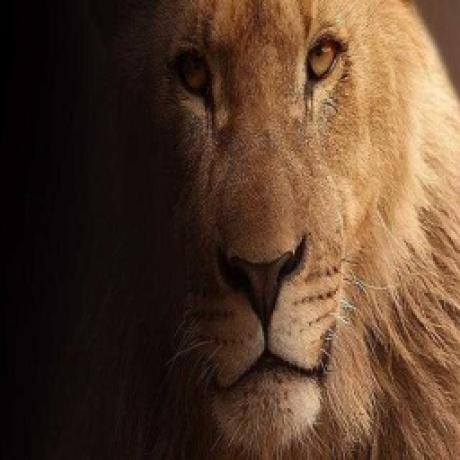Lion: (156, 0, 460, 460)
